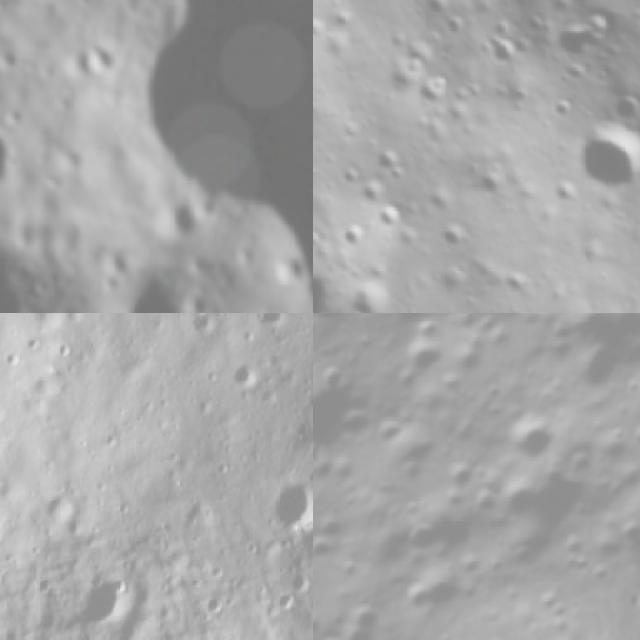crater: (119, 0, 313, 200), (488, 438, 604, 554), (313, 337, 399, 490), (563, 111, 640, 211), (95, 255, 199, 313), (407, 550, 478, 622), (431, 313, 575, 347), (70, 565, 136, 639), (497, 402, 566, 472), (547, 3, 619, 68), (545, 313, 631, 363), (392, 326, 455, 391), (313, 224, 357, 313), (155, 180, 211, 249), (267, 470, 313, 539), (393, 513, 448, 567), (365, 144, 418, 196), (337, 589, 391, 640), (366, 404, 417, 456), (391, 576, 444, 626), (336, 273, 402, 313), (262, 240, 313, 291), (427, 211, 476, 258), (439, 452, 485, 498), (41, 484, 86, 530), (69, 42, 114, 86), (464, 482, 508, 526), (330, 611, 396, 640), (601, 84, 640, 133), (356, 176, 398, 218), (368, 198, 408, 239), (337, 215, 373, 254), (313, 313, 360, 340), (229, 359, 261, 396), (55, 140, 88, 174), (0, 98, 11, 195), (313, 527, 337, 566), (186, 313, 217, 341), (552, 0, 609, 15), (211, 452, 233, 478), (1, 347, 22, 374), (291, 568, 313, 592), (313, 629, 361, 640), (274, 589, 295, 612), (114, 495, 134, 517), (258, 313, 292, 325), (23, 328, 41, 350), (201, 596, 223, 614), (102, 427, 118, 449), (480, 632, 520, 640), (58, 337, 71, 361), (71, 0, 97, 10)
